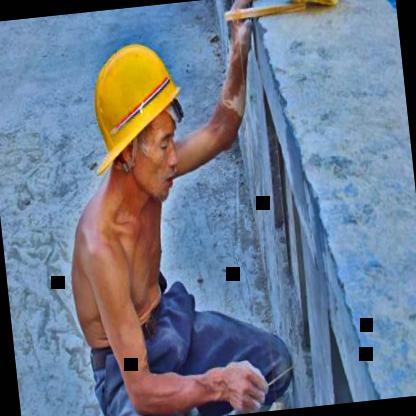helmet: (72, 15, 203, 233)
